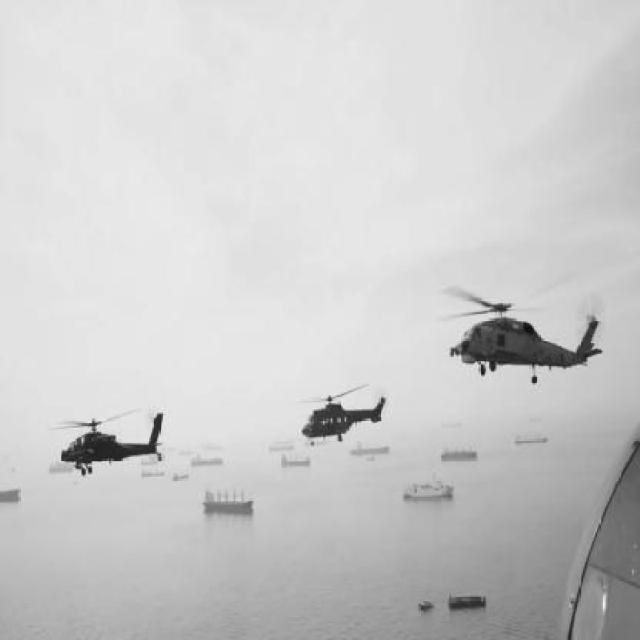Helicopter: (435, 266, 607, 387), (47, 401, 170, 479), (293, 380, 389, 448)
